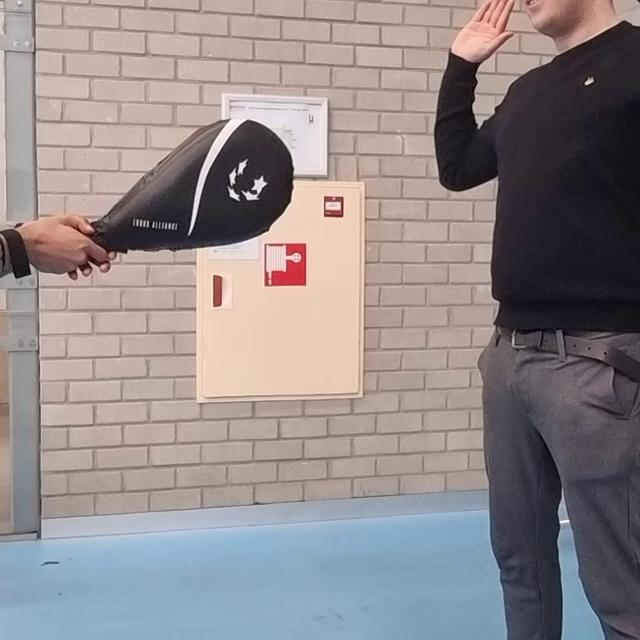paddle: (86, 118, 293, 253)
